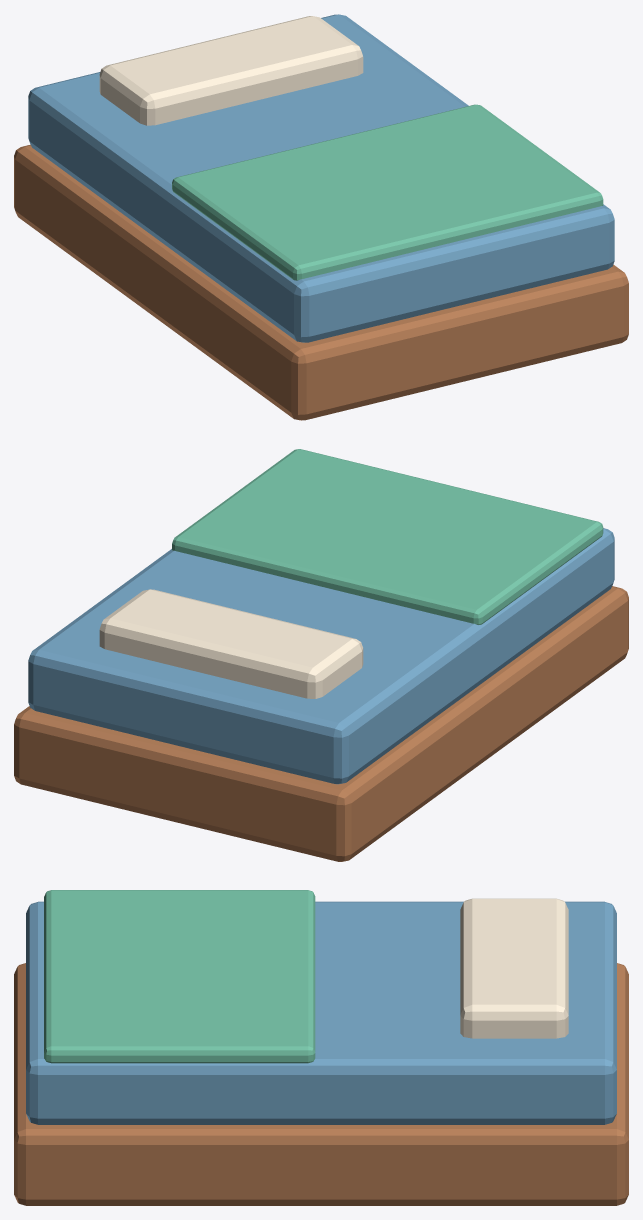
The model's file is prop_kasur_lv2.fbx.
3 views of the same model, one above another, from view 1: azimuth 30°, elevation 25°; view 2: azimuth 150°, elevation 25°; view 3: azimuth 270°, elevation 25° (orthographic). The views are drawn at different scales.
Parts seen in each view (by area): view 1: prop_kasur_lv2; view 2: prop_kasur_lv2; view 3: prop_kasur_lv2.
Part boxes in pixels (box(x1,y1,x2,y2)): prop_kasur_lv2: box(14, 14, 628, 420); prop_kasur_lv2: box(14, 449, 628, 861); prop_kasur_lv2: box(14, 890, 628, 1205).
Bounding box in the file's own units: 138 × 62.5 × 204.
Materials: 1 (1 with a texture image).
